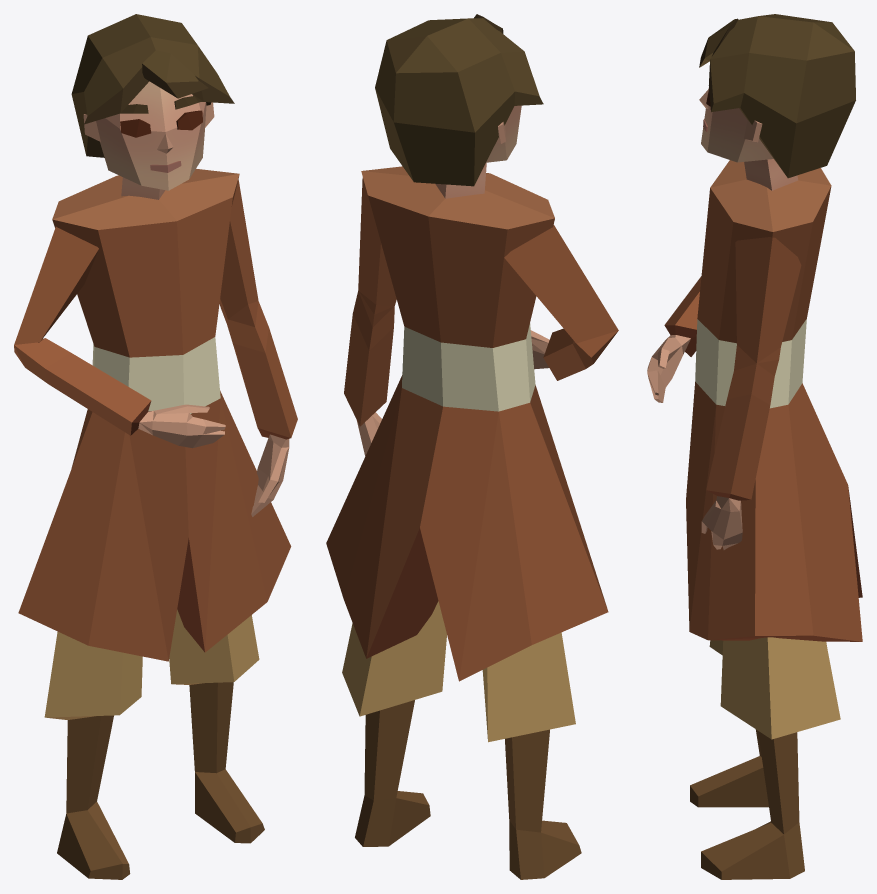
The model's file is noble.glb.
The picture shows the model from 3 angles, left to right: view 1: azimuth 30°, elevation 25°; view 2: azimuth 150°, elevation 25°; view 3: azimuth 270°, elevation 25°; orthographic projection. The views are drawn at different scales.
Size of the model in its own units: 0.6423 by 1.76 by 0.4213.
1 material, 1 textured.
